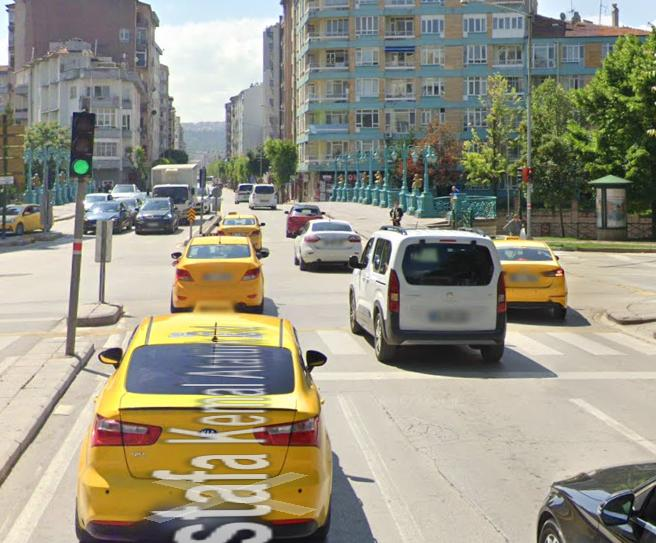greenlight: (73, 111, 91, 175)
